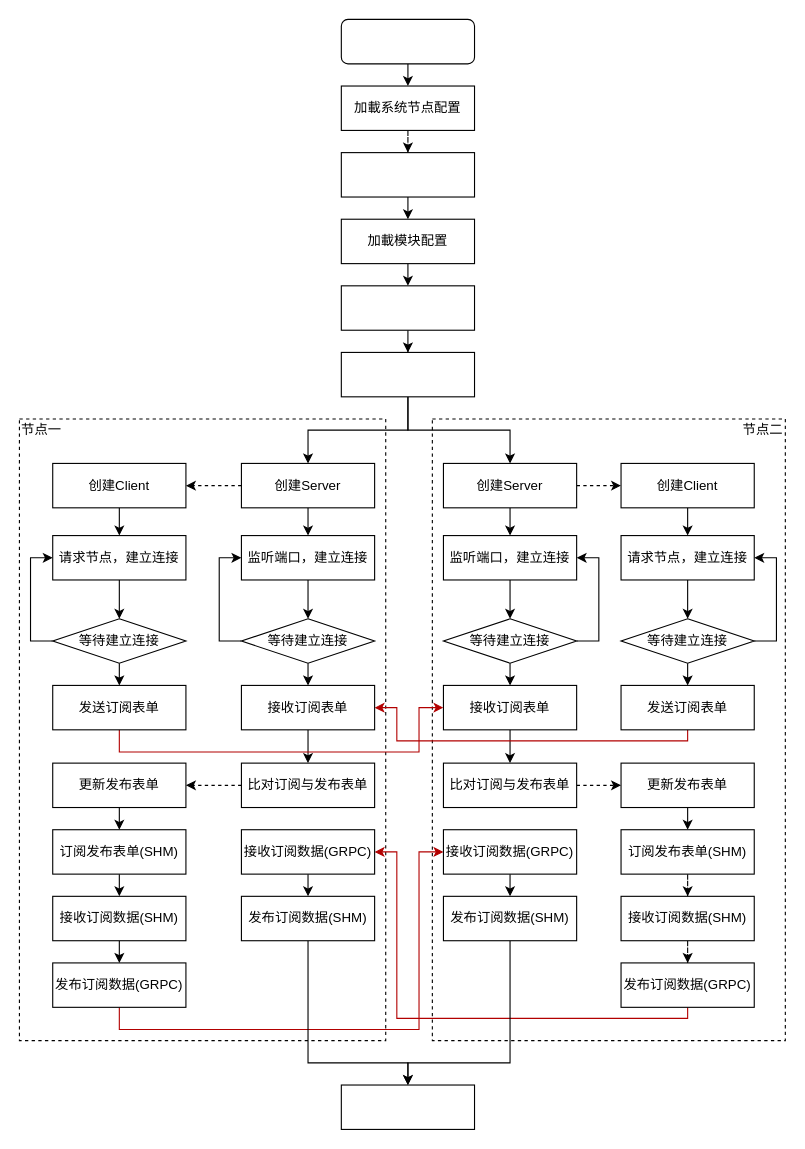
Image size: 805x1149. Some labels were removed from this diagram. Here are the shapes that lost their labels. From the top down, the centre of each, then its label:
At point (407, 41): "启动".
At point (407, 174): "加載本节点配置".
At point (407, 307): "生成订阅与发布表单".
At point (407, 374): "创建节点".
At point (407, 1106): "结束".
